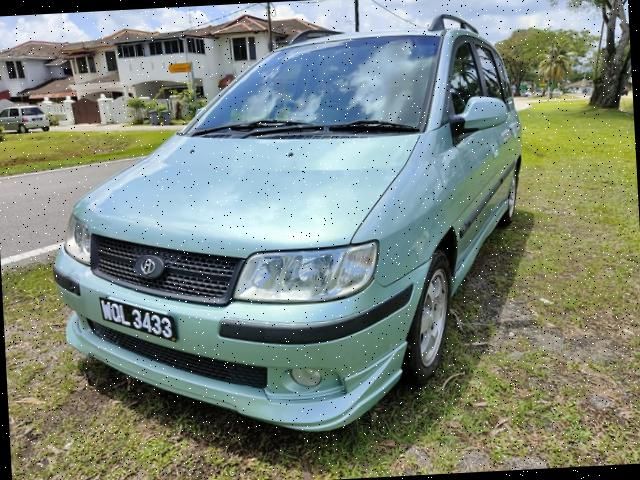License_Plate: (95, 291, 182, 357)
car: (42, 5, 543, 446)
